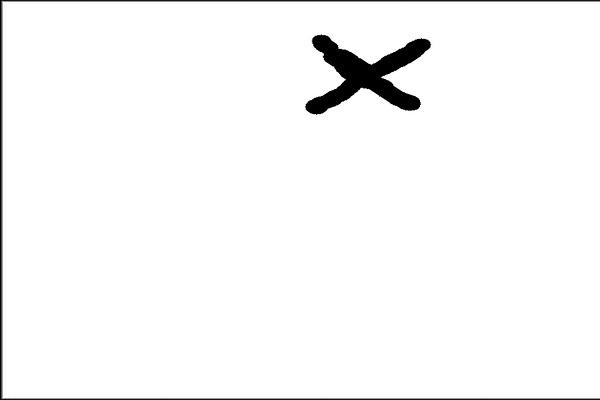X: (293, 20, 457, 132)
